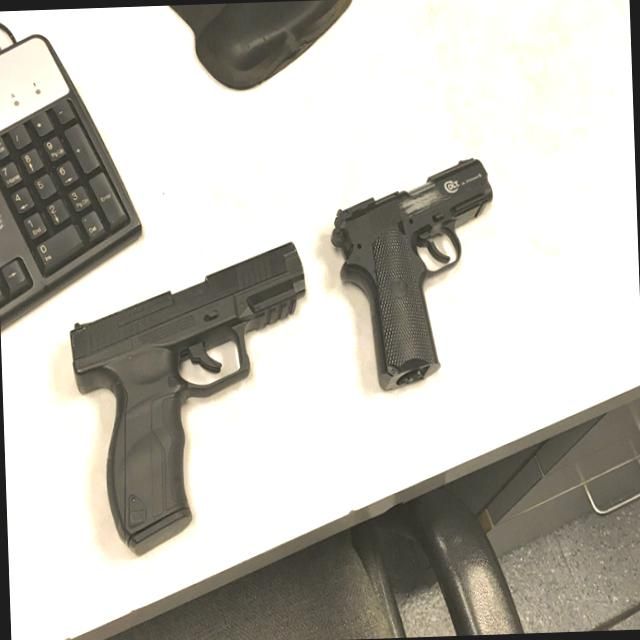handgun: (62, 236, 316, 546), (326, 151, 504, 395)
